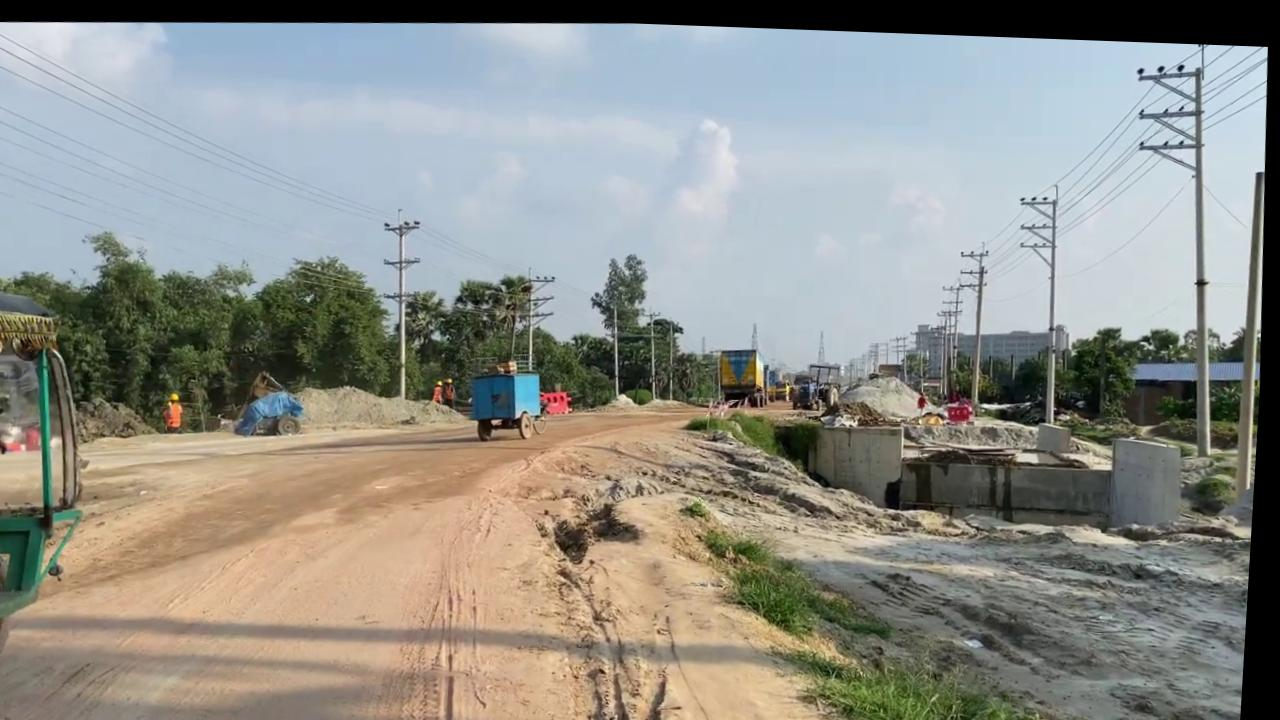Obstacle: (471, 363, 552, 439)
Pole: (1227, 158, 1274, 488)
Traffic-sign: (253, 247, 400, 395), (587, 245, 657, 394)
Tree: (0, 284, 107, 672), (466, 268, 559, 439), (432, 350, 580, 441), (219, 365, 311, 437), (717, 341, 773, 404), (793, 355, 847, 406), (947, 380, 981, 417), (768, 360, 796, 397), (794, 369, 822, 403), (544, 384, 579, 411)
Upstairs: (776, 398, 1192, 534)
